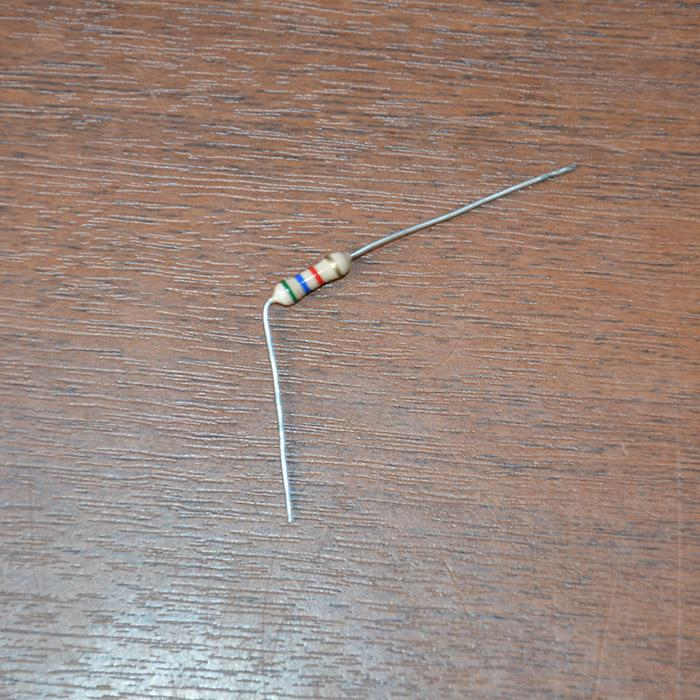resistor: (271, 252, 352, 307)
